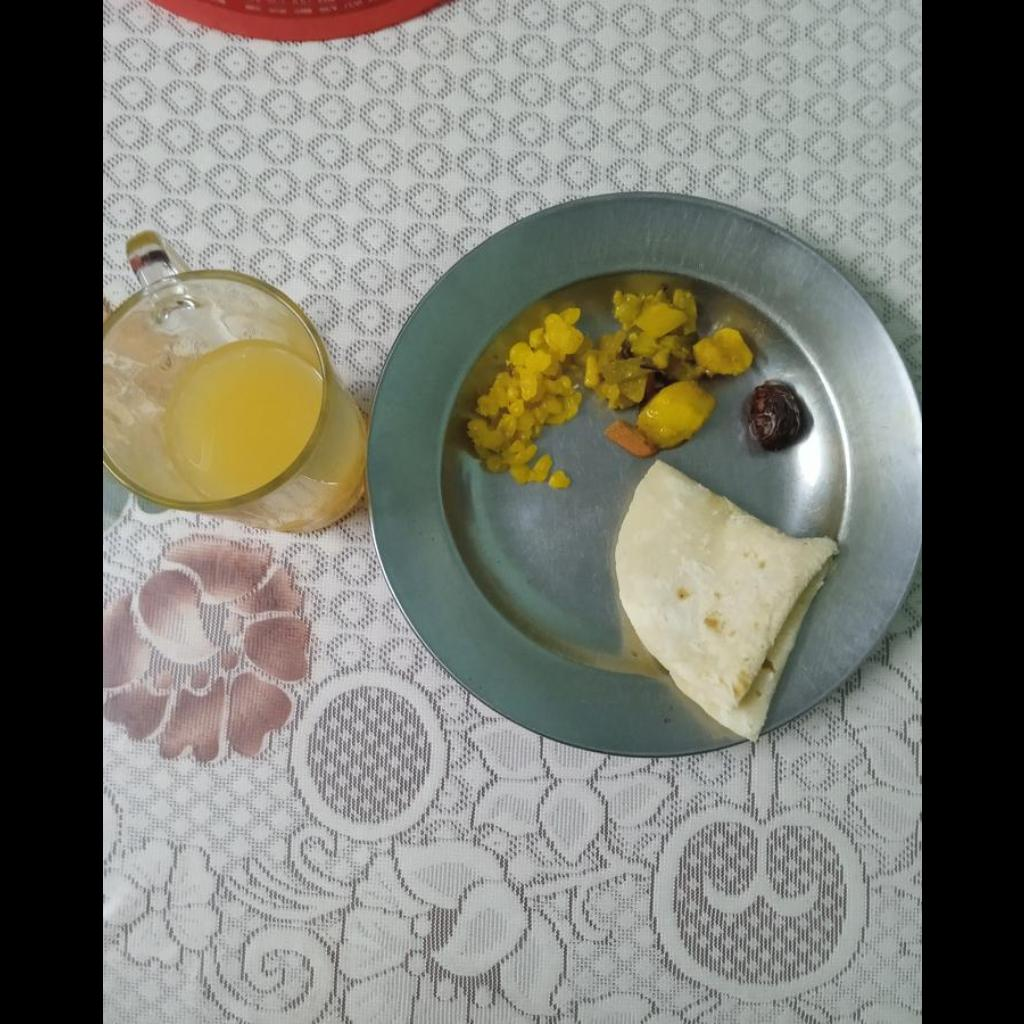burinda: (473, 312, 585, 481)
dates: (747, 381, 810, 448)
juice: (166, 346, 317, 505)
ruti: (611, 461, 843, 743)
vegetable: (595, 294, 748, 449)
